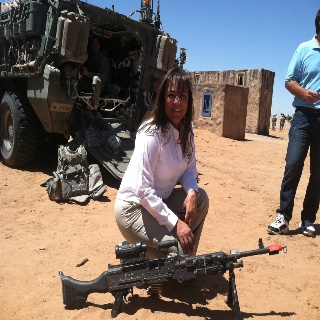rifle: (60, 238, 288, 320)
